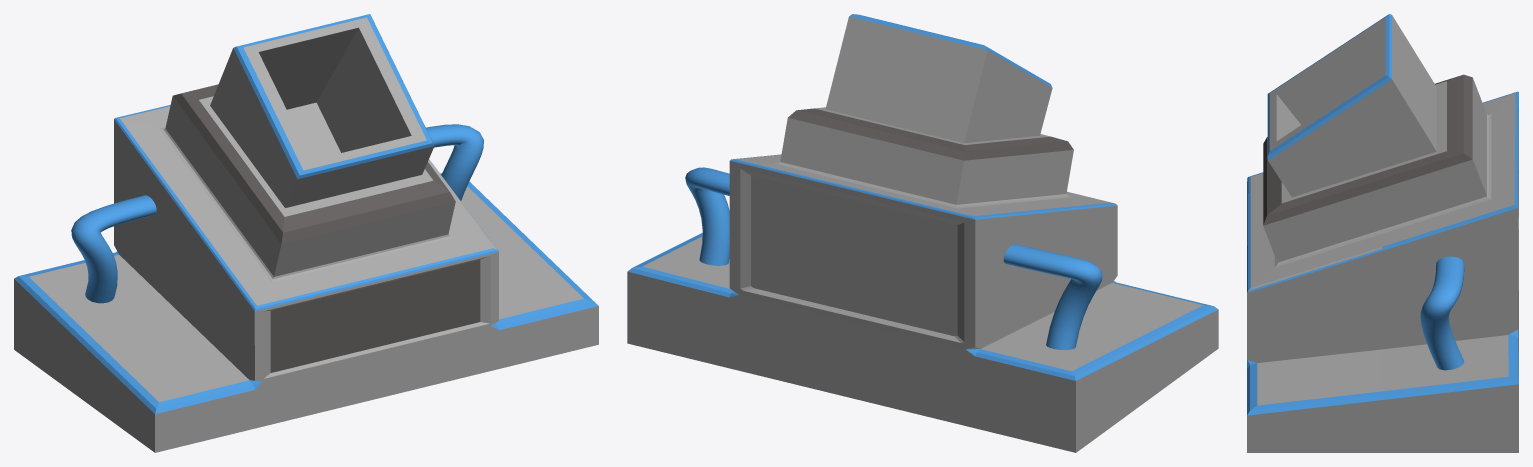
File: maszynka_do_owocow.fbx
3 views of the same model, side by side, from view 1: azimuth 30°, elevation 25°; view 2: azimuth 150°, elevation 25°; view 3: azimuth 270°, elevation 25° (orthographic). The views are drawn at different scales.
Parts seen in each view (by area): view 1: Cube; view 2: Cube; view 3: Cube.
Boxes of the visible parts, box(x1,y1,x2,y2) form: Cube: box(14, 14, 598, 452); Cube: box(627, 14, 1218, 452); Cube: box(1247, 14, 1518, 452).
Size of the model in its own units: 251 by 170 by 138.
